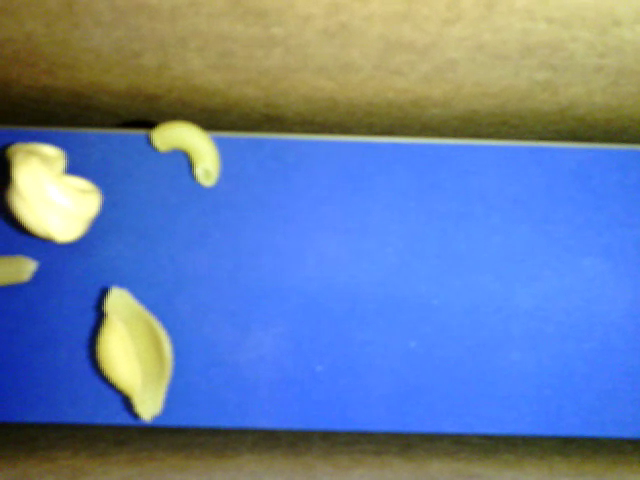elbow: (149, 119, 221, 186)
shell: (95, 285, 174, 424)
tortellini: (4, 141, 104, 243)
